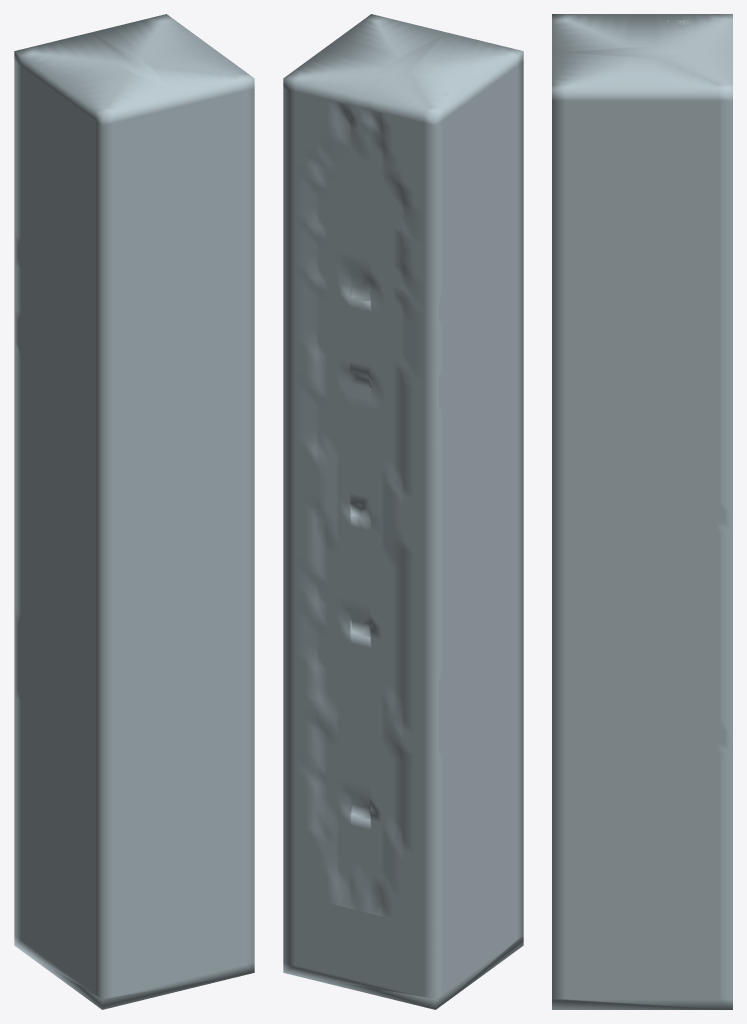
File: quartz-obelisk.glb
3 renders of one model, left to right at view 1: azimuth 30°, elevation 25°; view 2: azimuth 150°, elevation 25°; view 3: azimuth 270°, elevation 25°, orthographic. The views are drawn at different scales.
Visible parts, largest first — view 1: tripo_node_468e28f8-5b71-4561-8324-e3129f638cd4; view 2: tripo_node_468e28f8-5b71-4561-8324-e3129f638cd4; view 3: tripo_node_468e28f8-5b71-4561-8324-e3129f638cd4.
Boxes of the visible parts, x1=… form: tripo_node_468e28f8-5b71-4561-8324-e3129f638cd4: x1=14, y1=14, x2=254, y2=1009; tripo_node_468e28f8-5b71-4561-8324-e3129f638cd4: x1=283, y1=14, x2=523, y2=1009; tripo_node_468e28f8-5b71-4561-8324-e3129f638cd4: x1=552, y1=14, x2=732, y2=1009.
Size of the model in its own units: 0.1777 by 0.998 by 0.1777.
